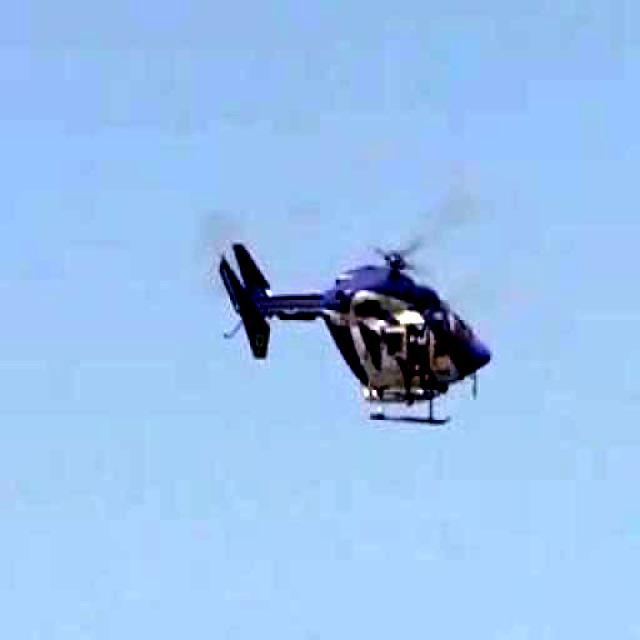drone: (189, 152, 569, 469)
